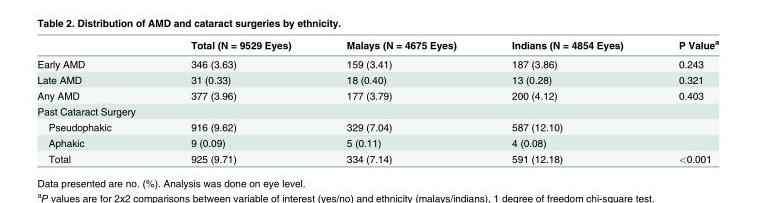table: (36, 37, 718, 164)
table column: (483, 37, 650, 164), (318, 37, 483, 164), (162, 37, 318, 164), (36, 37, 162, 164), (650, 37, 718, 164)
table column header: (36, 37, 718, 54)
table projected row header: (36, 103, 718, 118)
table row: (36, 37, 718, 54), (36, 54, 718, 71), (36, 71, 718, 87), (36, 87, 718, 103), (36, 118, 718, 134), (36, 134, 718, 150), (36, 103, 718, 118), (36, 150, 718, 164)
